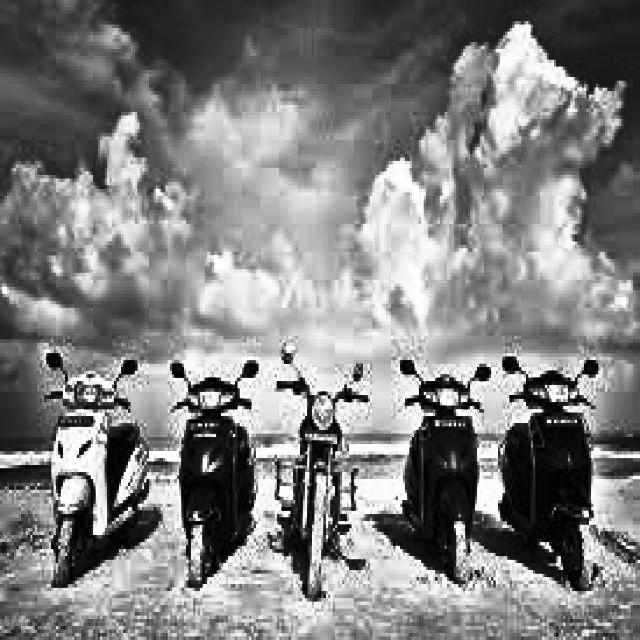Bike: (391, 356, 499, 618), (509, 362, 613, 607), (37, 353, 151, 569), (166, 355, 264, 581), (282, 356, 361, 616)
